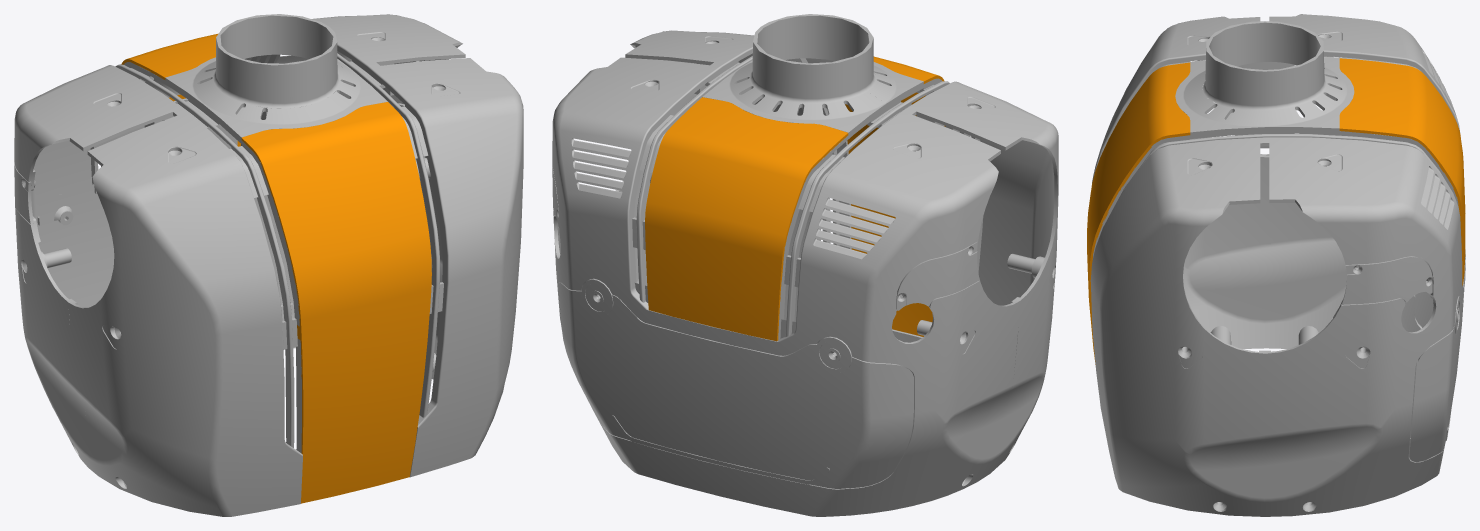
The model's file is Torso.obj.
The picture shows the model from 3 angles, left to right: view 1: azimuth 30°, elevation 25°; view 2: azimuth 150°, elevation 25°; view 3: azimuth 270°, elevation 25°; orthographic projection. The views are drawn at different scales.
Bounding box in the file's own units: 0.3168 × 0.285 × 0.2539.
